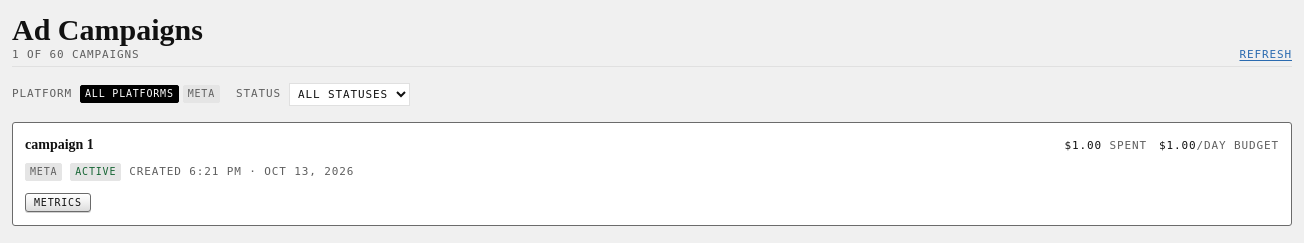
Test case: Ads — Refresh re-reads the total too › the second read's header replaces the first (a total is never stale)
Expected: the text with test id "ads-count" reads "1 of 60 campaigns", [12,48,140,61]
Click the button with test id "ads-refresh". click: (1266, 55)
box: [1240,48,1292,62]
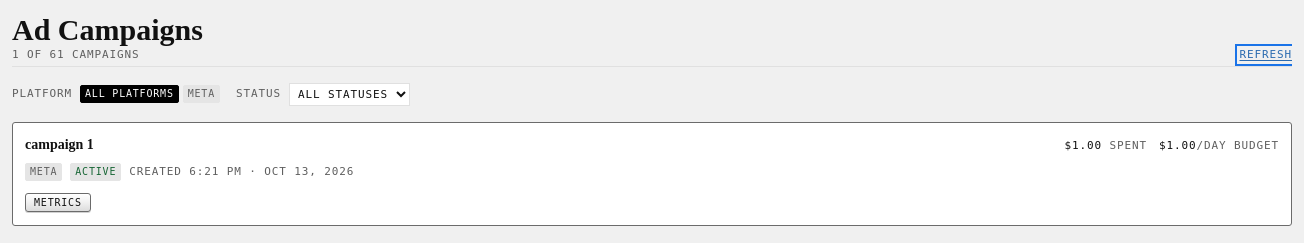
Result: the text with test id "ads-count" reads "1 of 61 campaigns" at [12,48,140,61]
